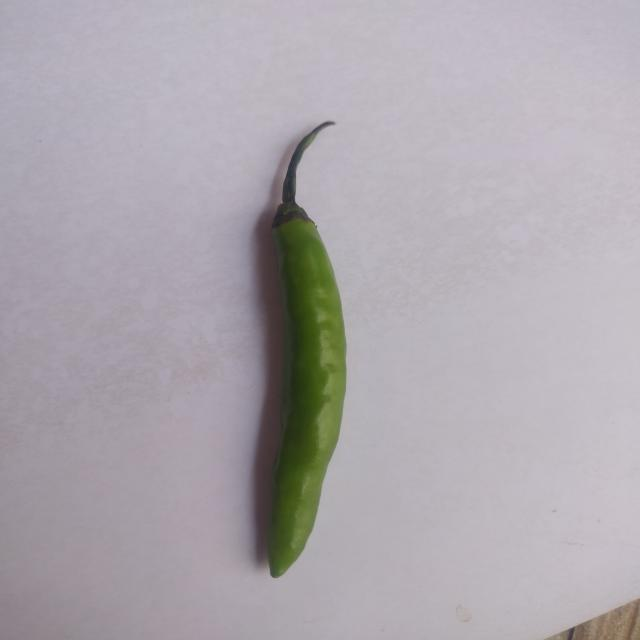Green Chilly: (224, 111, 374, 589)
